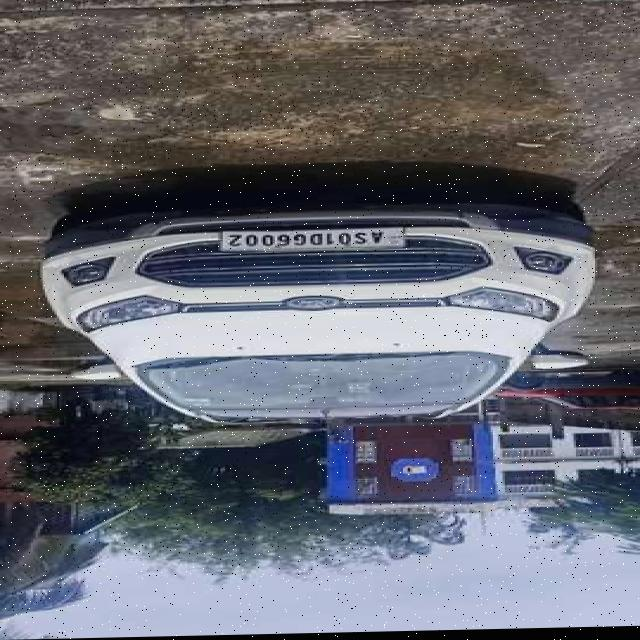plate: (219, 226, 410, 255)
